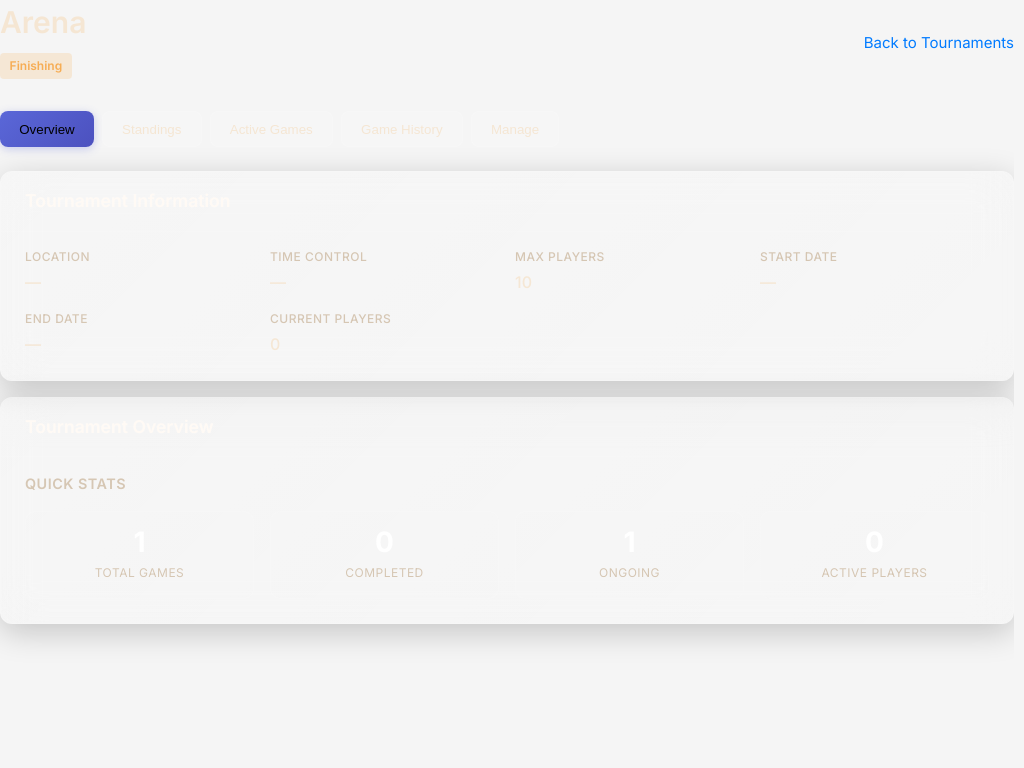
Test: detail updates completion immediately after the last result
Click the button "Active Games": (271, 129) left=210, top=111, right=333, bottom=147
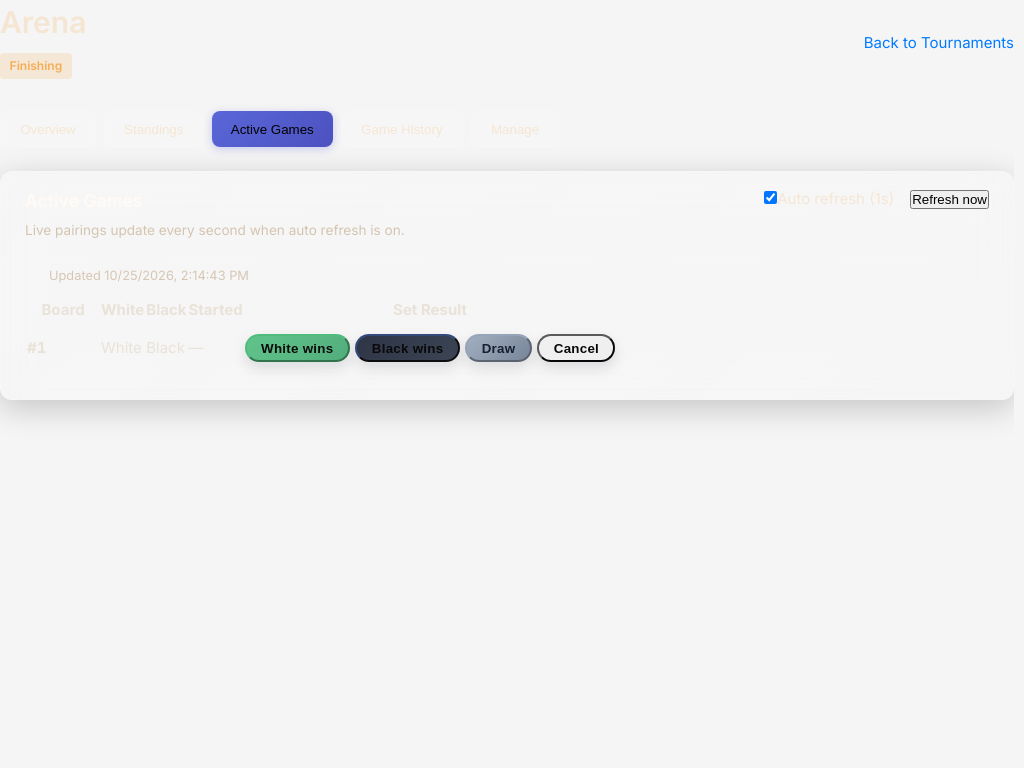
Click the checkbox: (771, 198) left=764, top=191, right=777, bottom=204
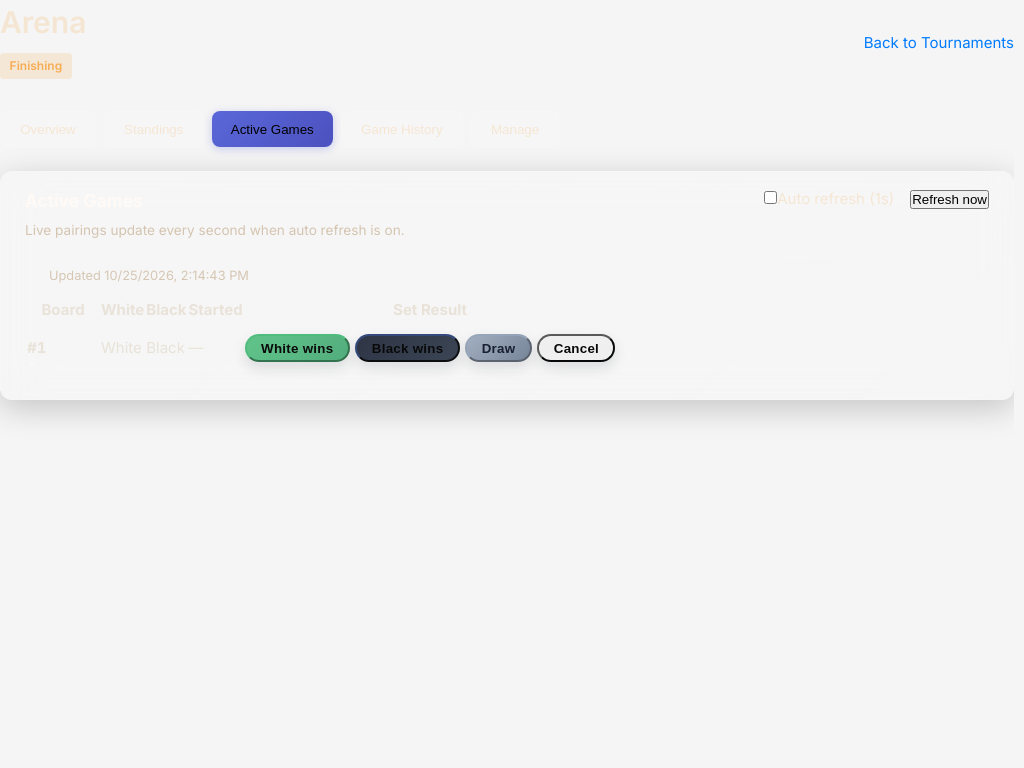
Click the button "White wins": (297, 348) left=245, top=334, right=350, bottom=362
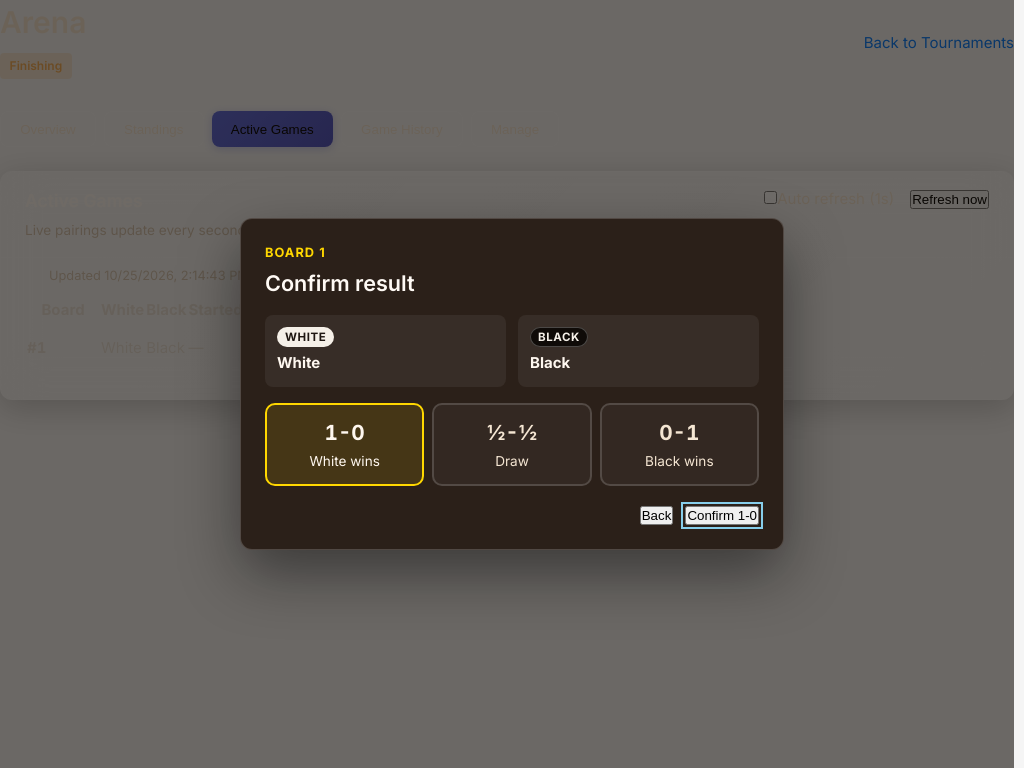
Click the button "Confirm 1-0": (722, 515) left=685, top=506, right=759, bottom=524
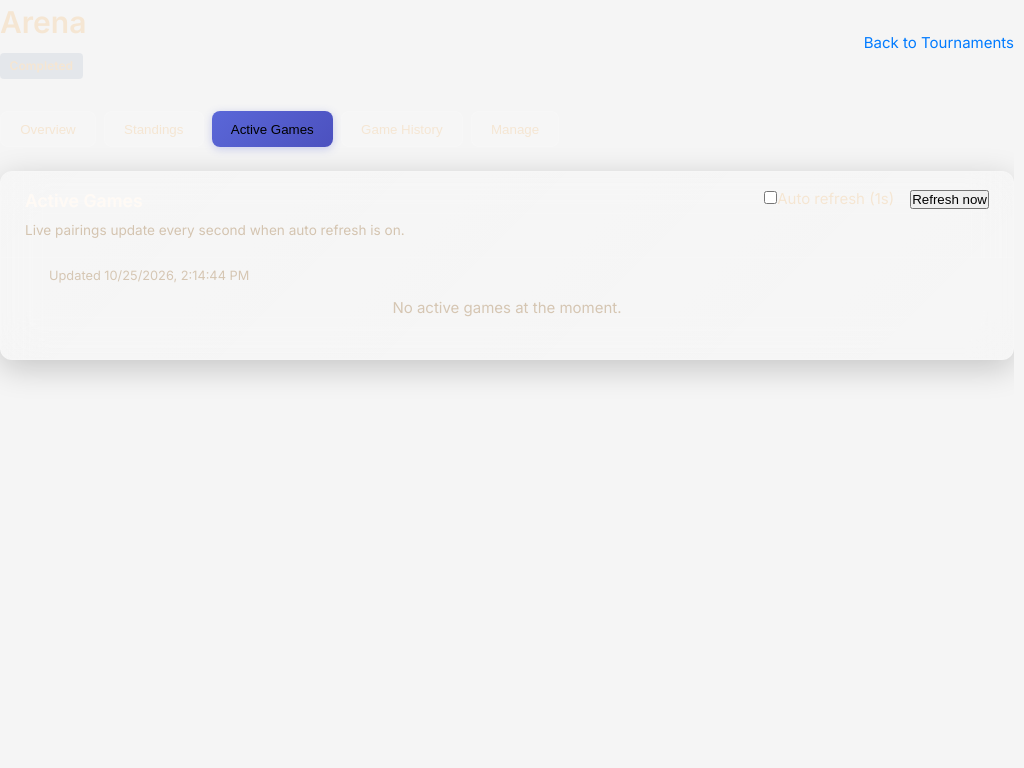
expect the text "Completed" is shown: met, box left=0, top=53, right=83, bottom=79
expect the text "Finishing" is gone: met
